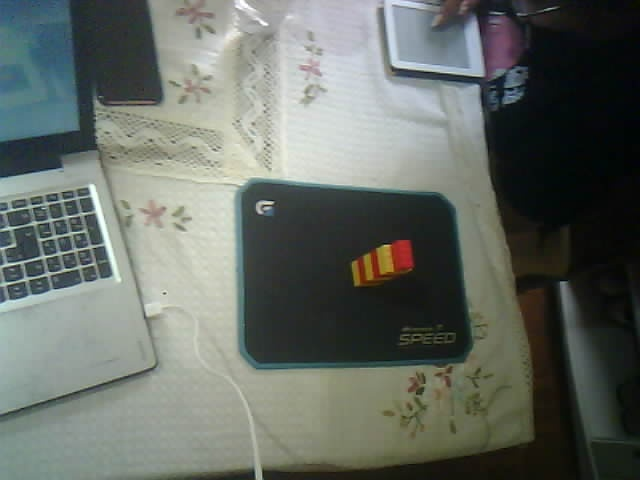lego: (350, 240, 415, 288)
